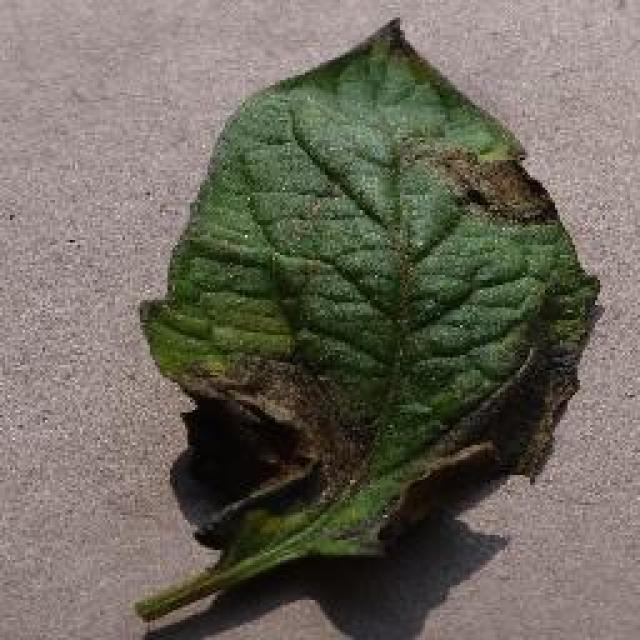Tomato Late Blight: (168, 175, 607, 565)
